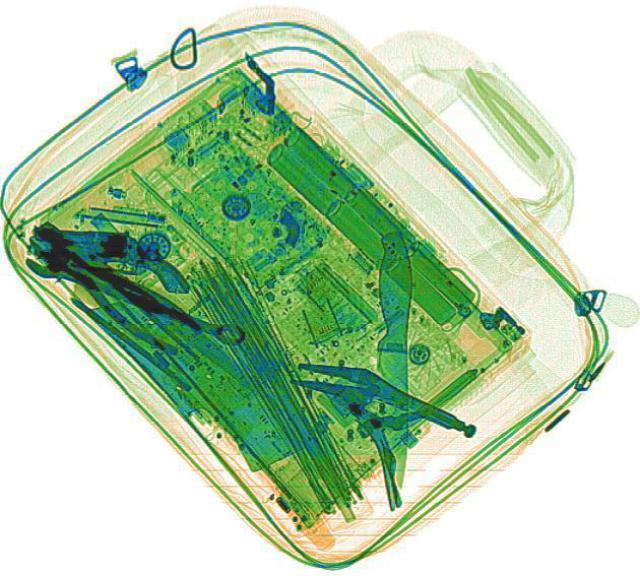Gun: (25, 225, 193, 293)
Knife: (34, 214, 298, 418), (370, 231, 418, 485)
Pliers: (10, 210, 242, 366)
Wrench: (18, 236, 254, 354)
